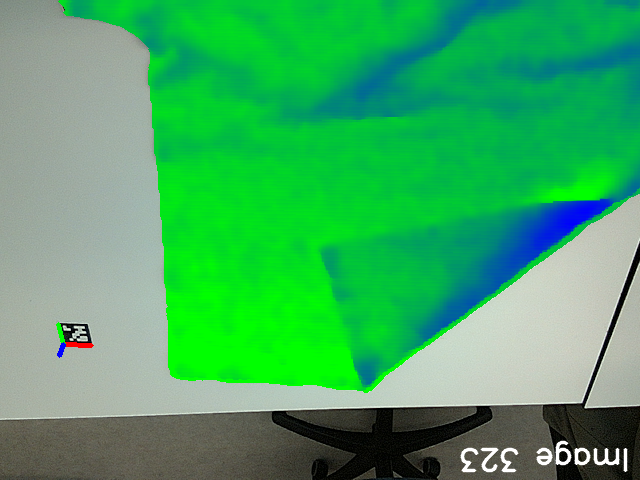V: (309, 226, 354, 268)
